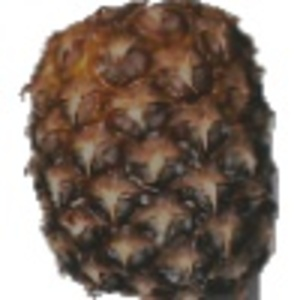abacaxi: (16, 3, 283, 297)
